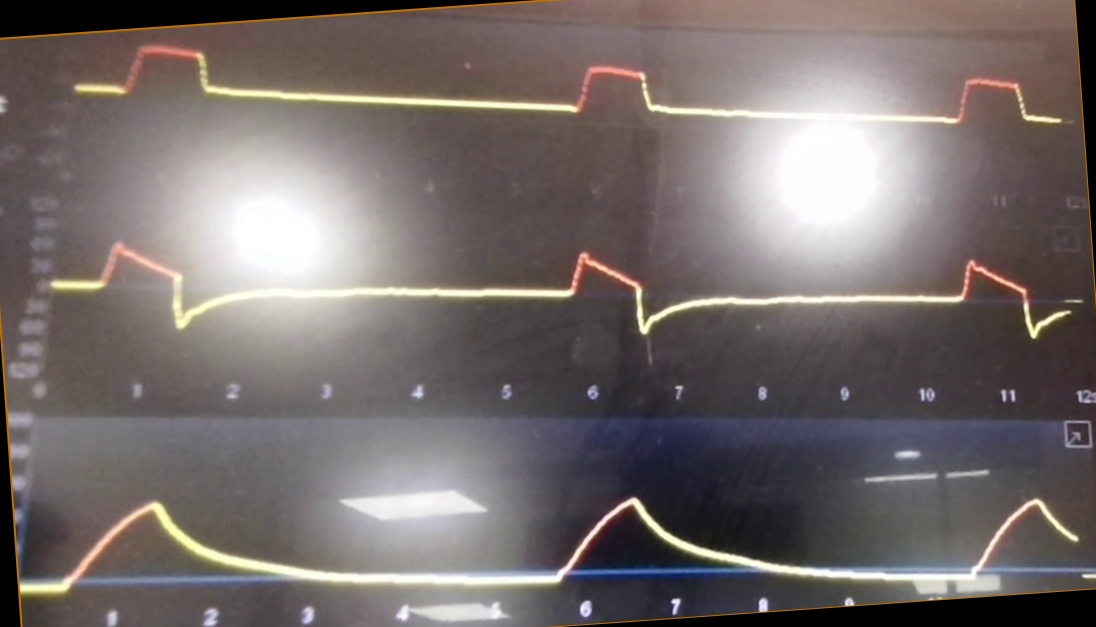Normal Flow: (57, 202, 1068, 361)
Normal Volume: (25, 468, 1082, 600)
